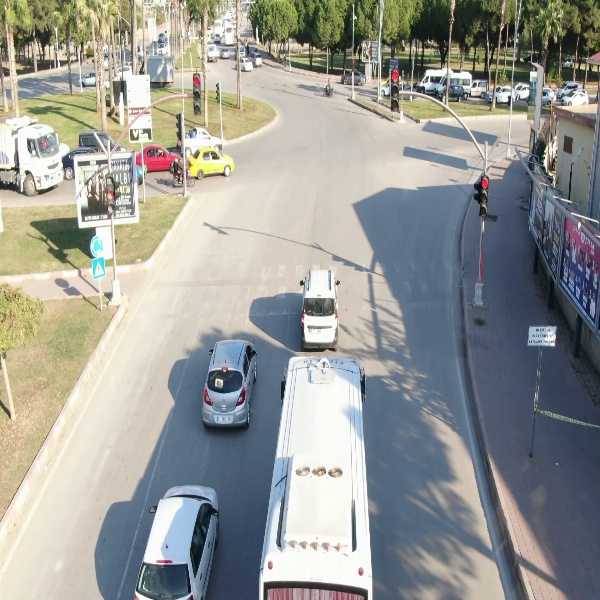car: (201, 337, 261, 432), (296, 265, 343, 353), (185, 144, 237, 182), (486, 85, 516, 106), (560, 90, 591, 106), (436, 84, 466, 100), (339, 70, 368, 86)
